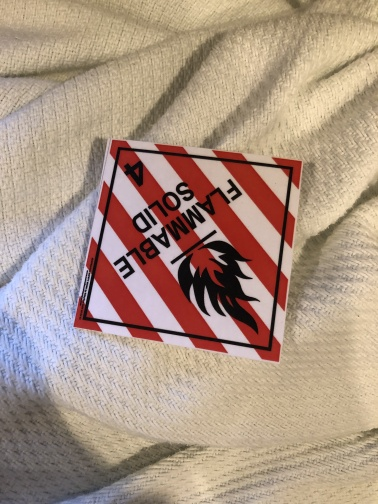FlammableSolid: (84, 139, 289, 356)
